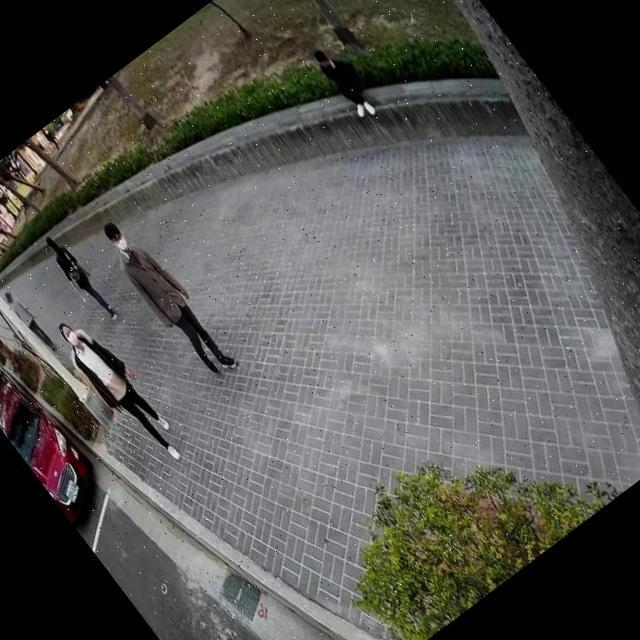person: (88, 202, 247, 392), (42, 298, 196, 480), (35, 222, 126, 331), (306, 32, 388, 126), (0, 279, 61, 360), (40, 124, 66, 152)
